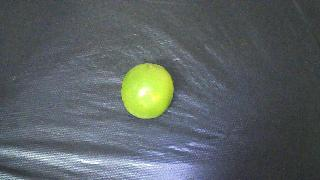LOCAL: (121, 63, 173, 119)
